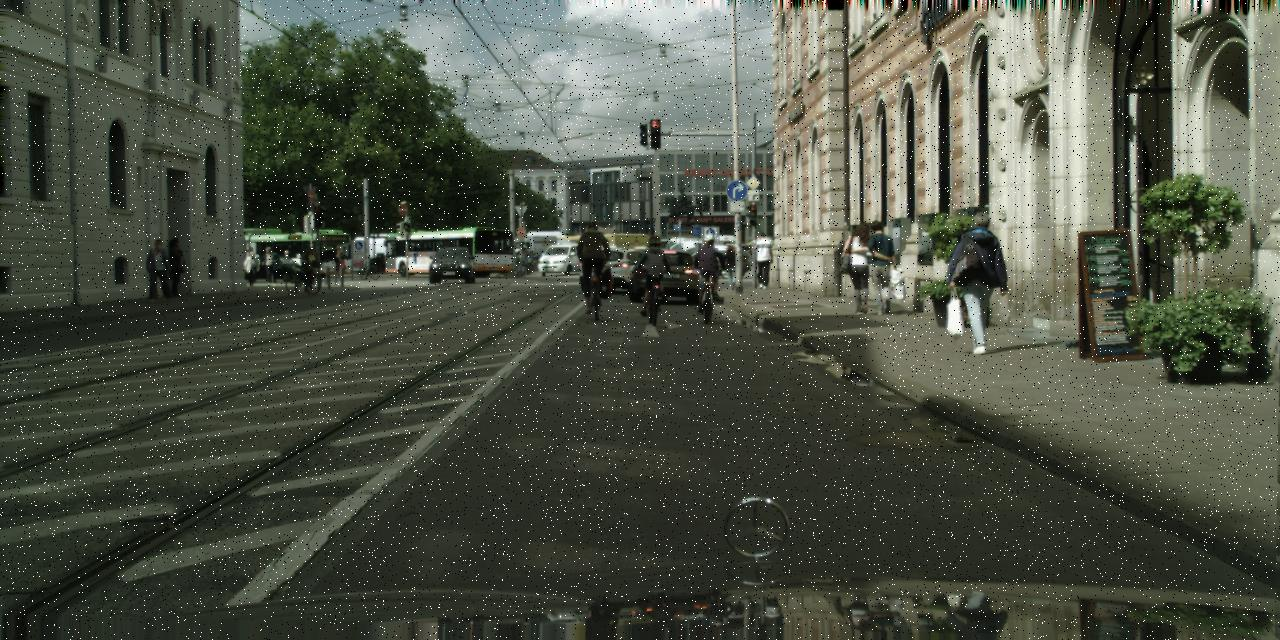ped: (951, 210, 1009, 351), (861, 220, 898, 312), (844, 222, 880, 312), (575, 219, 611, 308), (694, 234, 724, 305), (640, 235, 669, 307), (148, 239, 172, 302), (163, 238, 186, 296), (751, 231, 773, 288), (721, 244, 740, 289), (300, 248, 318, 292), (262, 246, 278, 286), (244, 250, 258, 286), (334, 249, 347, 280)
